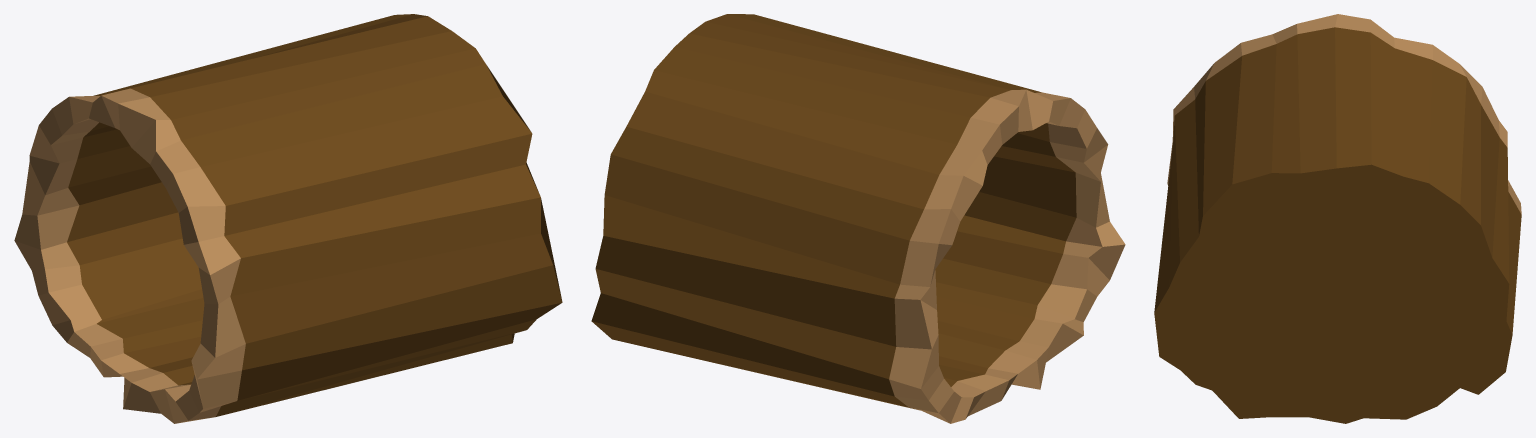
The model's file is startwood.fbx.
3 views of the same model, side by side, from view 1: azimuth 30°, elevation 25°; view 2: azimuth 150°, elevation 25°; view 3: azimuth 270°, elevation 25° (orthographic). The views are drawn at different scales.
Visible parts, largest first — view 1: Cylinder; view 2: Cylinder; view 3: Cylinder.
Part boxes in pixels (box(x1,y1,x2,y2)): Cylinder: box(14, 14, 562, 423); Cylinder: box(591, 14, 1125, 423); Cylinder: box(1154, 14, 1521, 423).
Bounding box in the file's own units: 272 × 212 × 266.
